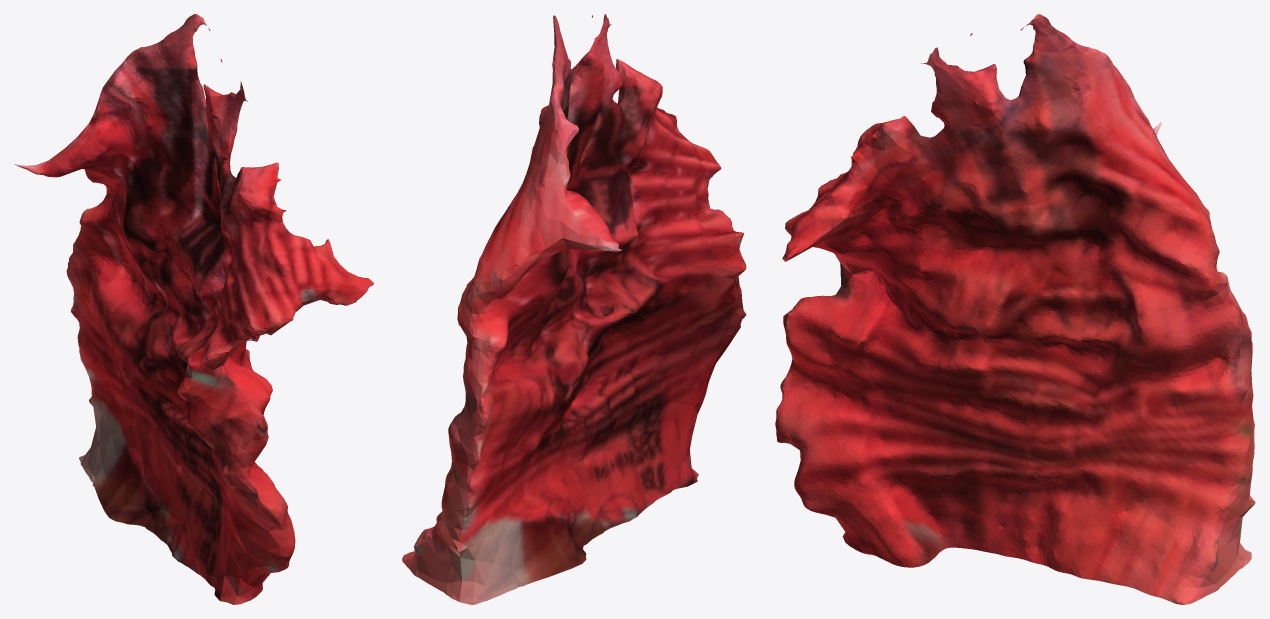
Rendered from canyougrab.glb.
3 views of the same model, side by side, from view 1: azimuth 30°, elevation 25°; view 2: azimuth 150°, elevation 25°; view 3: azimuth 270°, elevation 25° (orthographic). The views are drawn at different scales.
Visible parts, largest first — view 1: mesh; view 2: mesh; view 3: mesh.
Part boxes in pixels (left/top/right/bottom): mesh: left=14, top=14, right=373, bottom=604; mesh: left=402, top=14, right=746, bottom=604; mesh: left=775, top=14, right=1255, bottom=604.
Bounding box in the file's own units: 0.104 × 0.2439 × 0.1941.
1 material, 1 textured.
